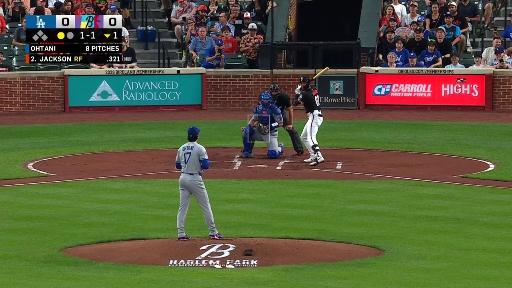pitcher: (175, 127, 226, 239)
